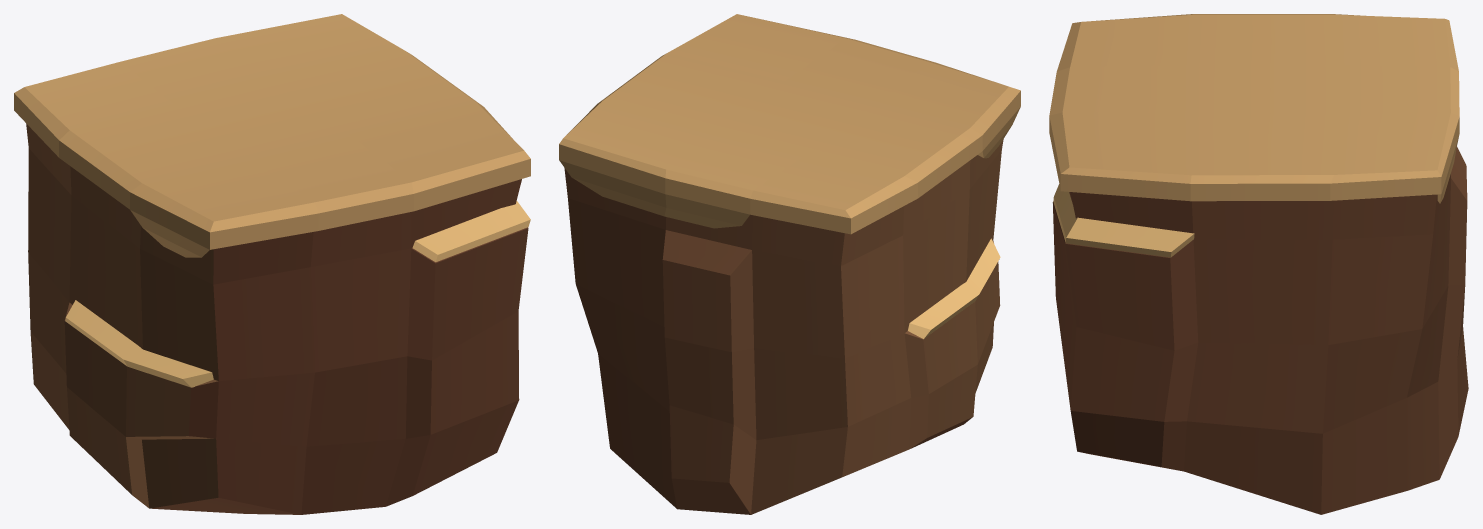
The model's file is floor tile.fbx.
3 views of the same model, side by side, from view 1: azimuth 30°, elevation 25°; view 2: azimuth 150°, elevation 25°; view 3: azimuth 270°, elevation 25° (orthographic). The views are drawn at different scales.
Visible parts, largest first — view 1: Cube; view 2: Cube; view 3: Cube.
Part boxes in pixels (box(x1,y1,x2,y2)): Cube: box(14, 14, 530, 514); Cube: box(559, 14, 1020, 514); Cube: box(1049, 14, 1468, 514).
Size of the model in its own units: 209 by 211 by 215.
